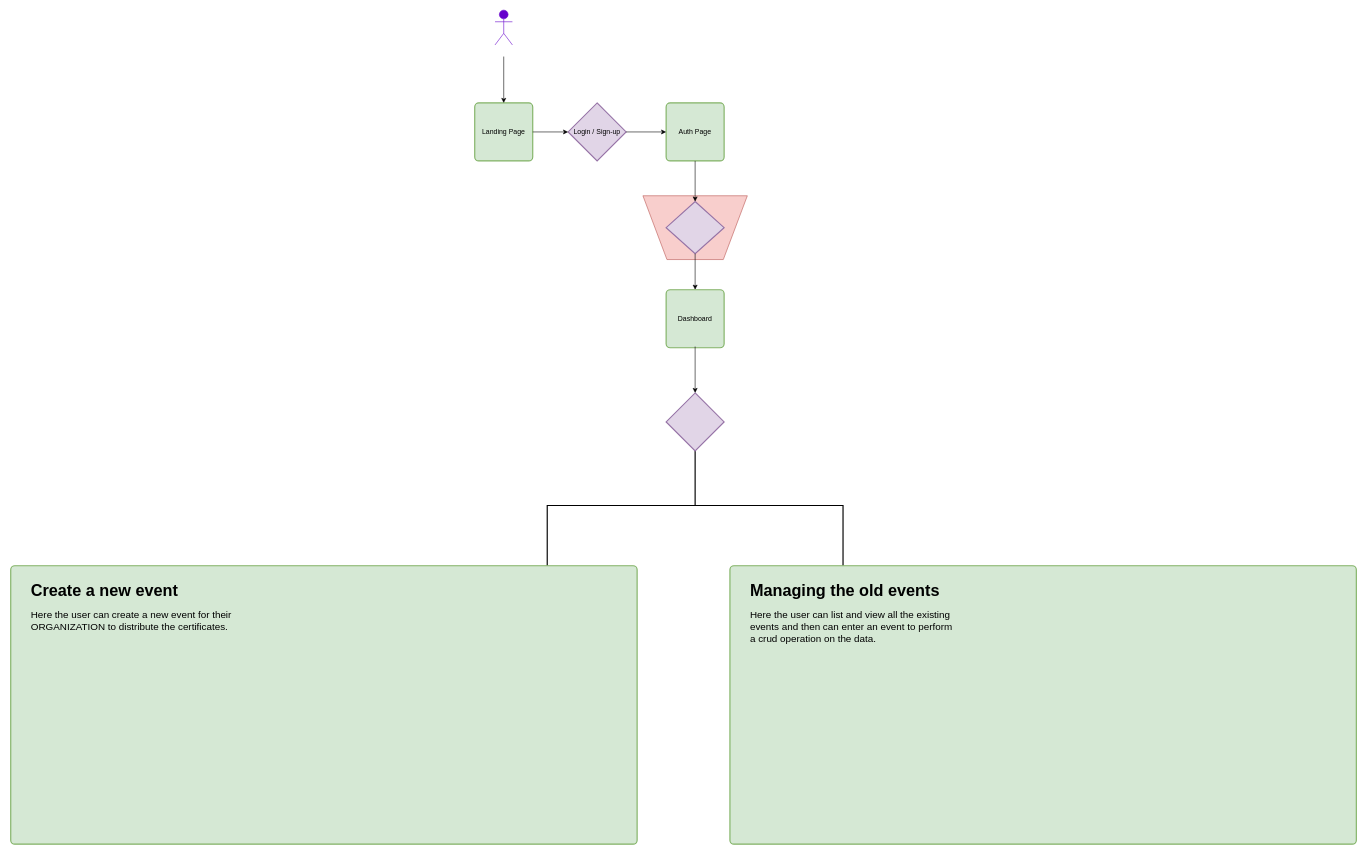
The diagram is 1366 pixels wide and 855 high, and some of its shapes have lost their labels. Here are the shapes that lost their labels. From the top down, the centre of each, then its label:
At (x=503, y=27): "Organization User".
At (x=694, y=227): "Organization Verification".
At (x=694, y=421): "Create or Manage".
